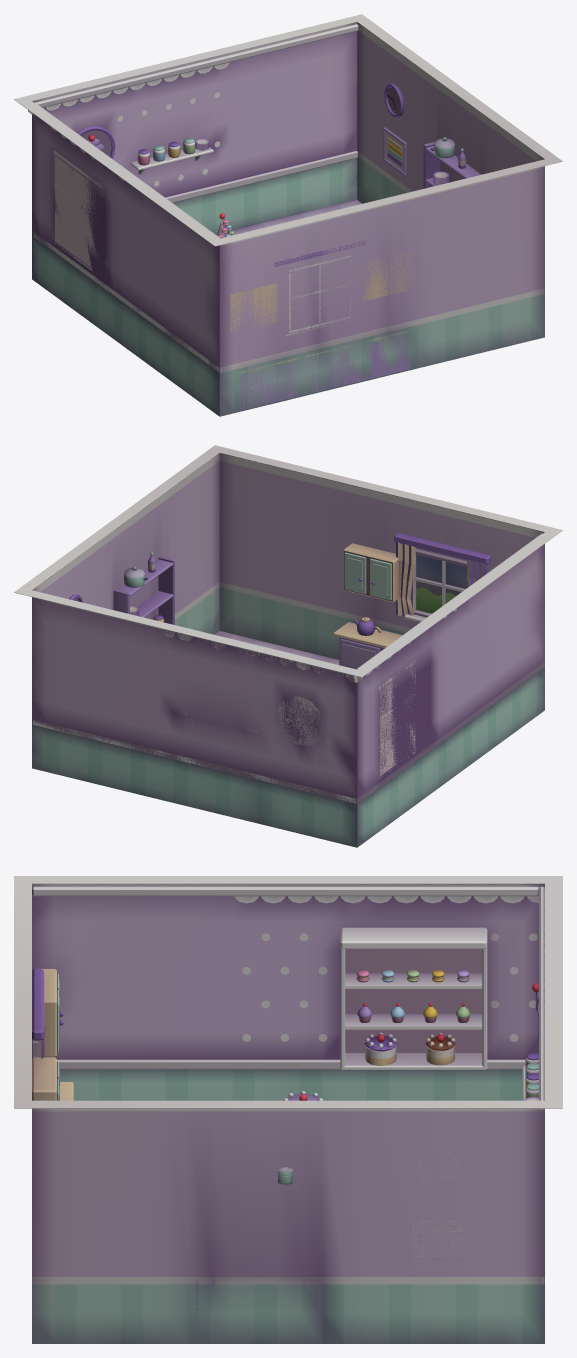
3 views of the same model, one above another, from view 1: azimuth 30°, elevation 25°; view 2: azimuth 150°, elevation 25°; view 3: azimuth 270°, elevation 25° (orthographic). The views are drawn at different scales.
Parts seen in each view (by area): view 1: back, room, props, table; view 2: room, back, table; view 3: back, room, props.
Part boxes in pixels (x1,y1,x2,y2): back: [208, 14, 562, 416]; room: [14, 17, 358, 416]; props: [137, 138, 234, 238]; table: [216, 200, 361, 235]; room: [25, 532, 556, 847]; back: [14, 445, 562, 669]; table: [215, 631, 339, 664]; back: [14, 876, 562, 1343]; room: [32, 876, 562, 1283]; props: [283, 970, 538, 1100].
Bounding box in the file's own units: 9.2 × 4.5 × 9.2.
